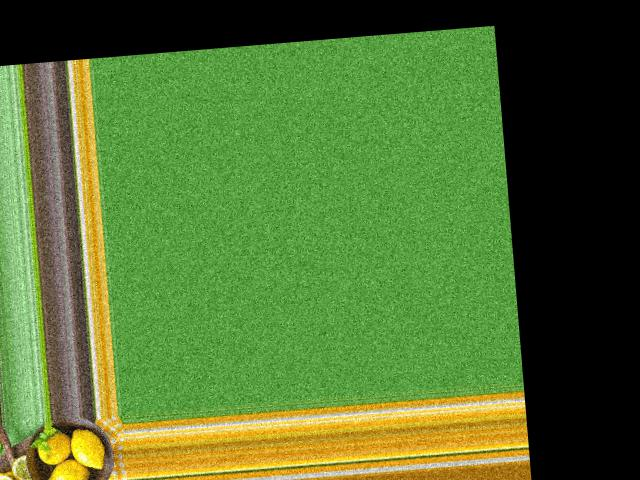lemon: (65, 422, 111, 474)
